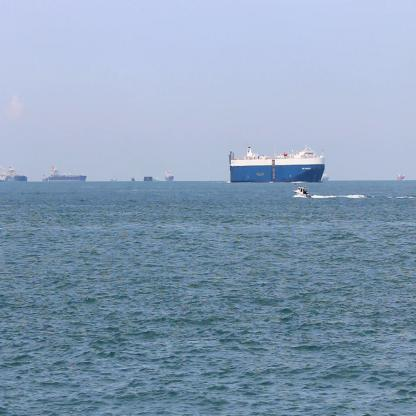Container Ship: (228, 140, 326, 186), (48, 164, 88, 183), (0, 164, 30, 183), (163, 166, 175, 183), (394, 168, 406, 184), (323, 168, 330, 183), (40, 171, 48, 183)
